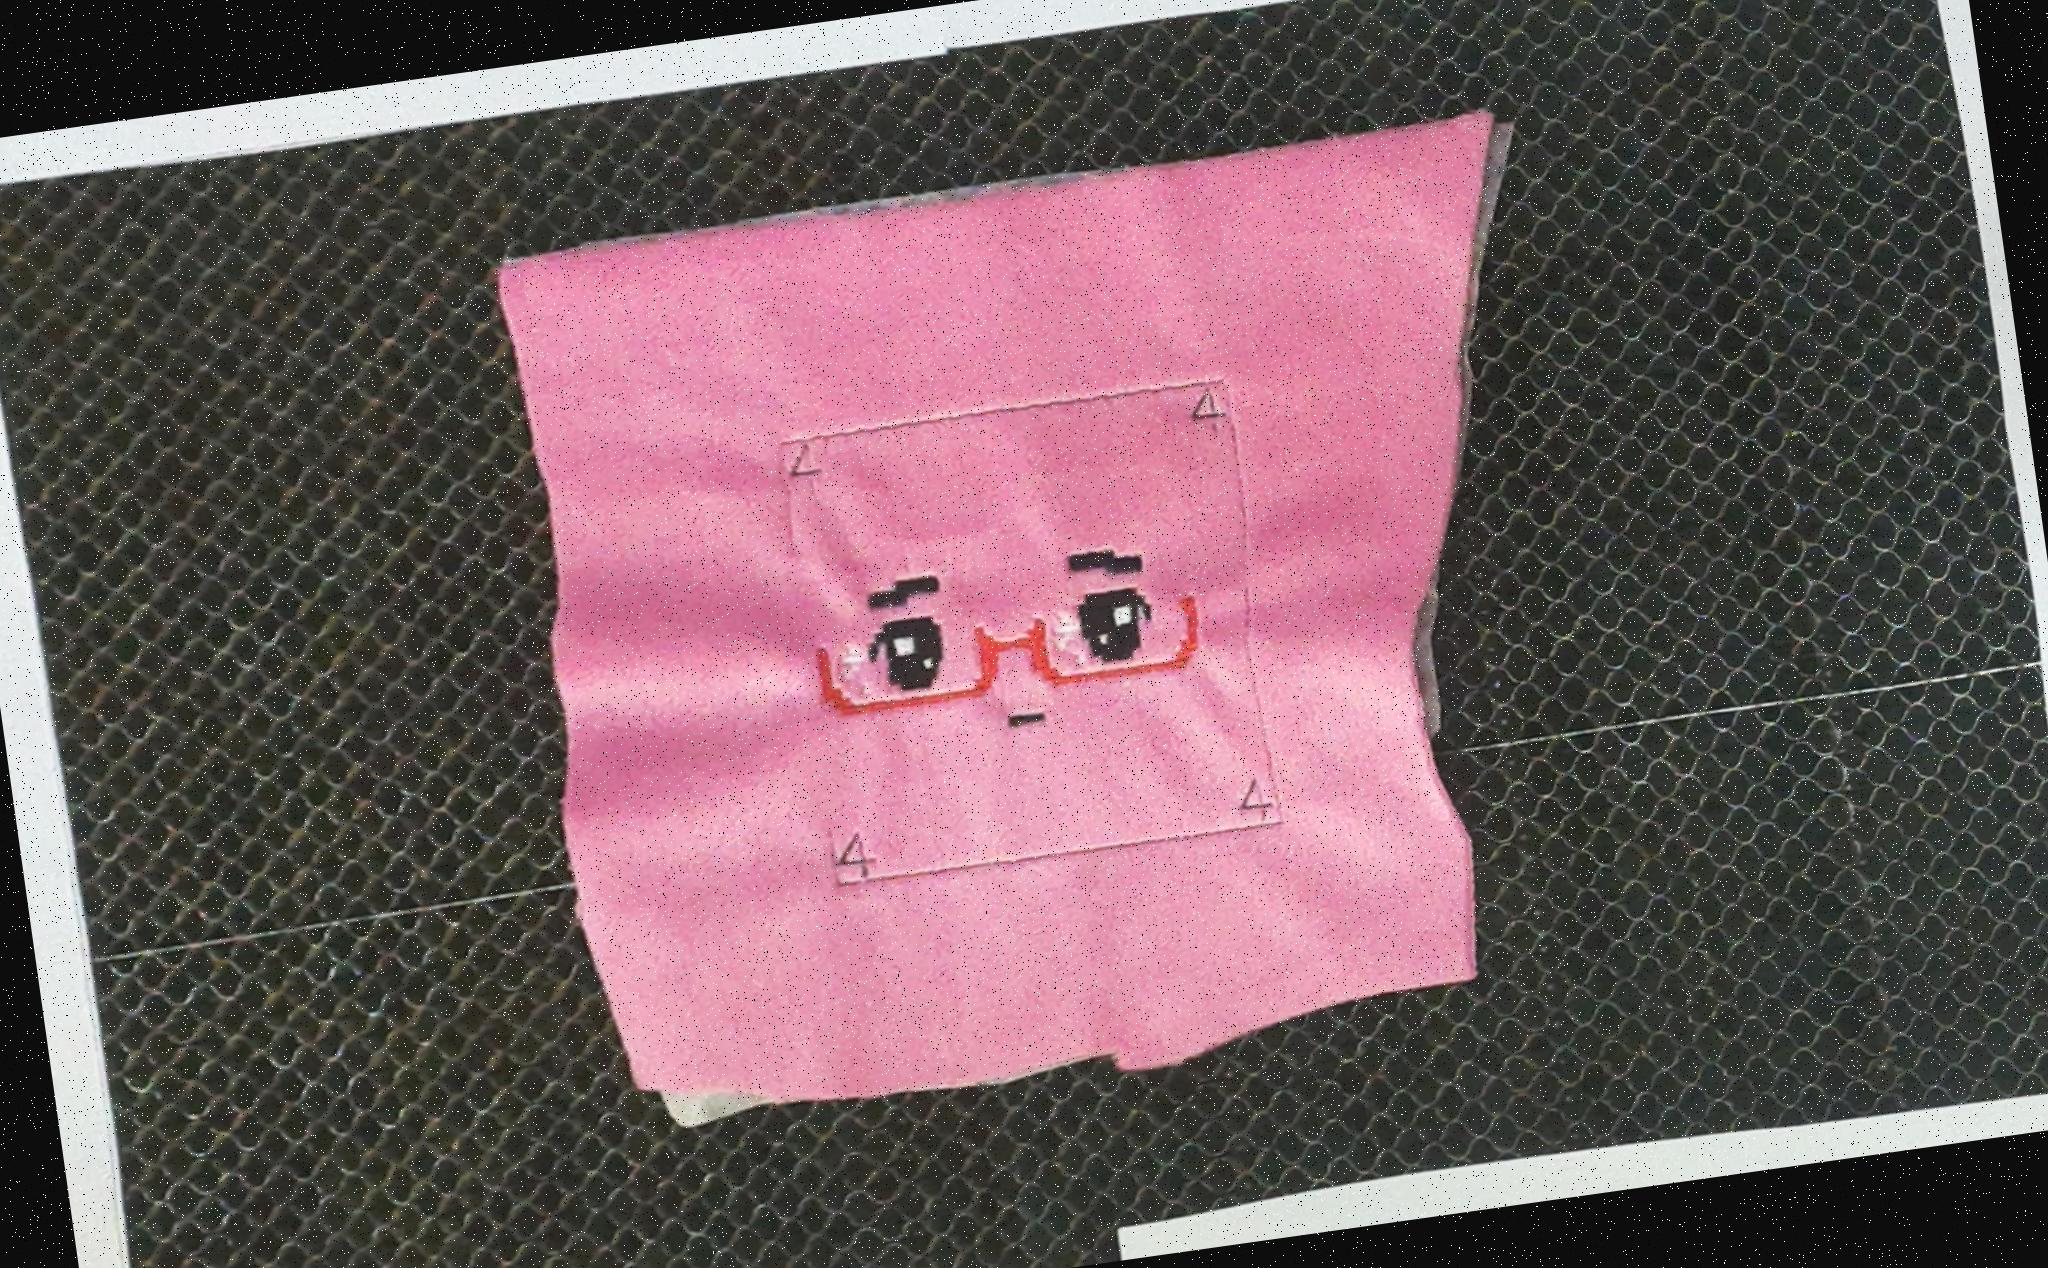objects: (473, 83, 1674, 1160)
